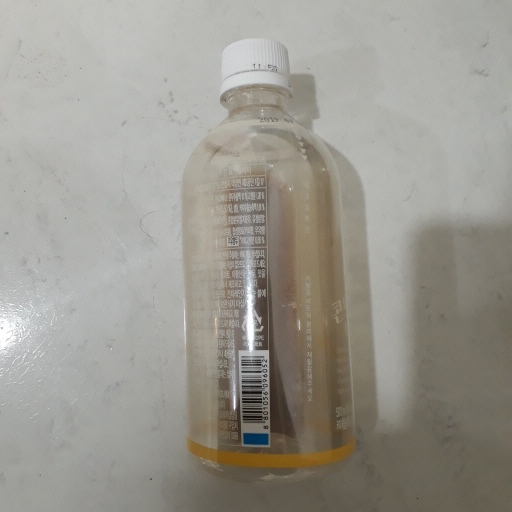Plastic_0: (177, 34, 357, 481)
